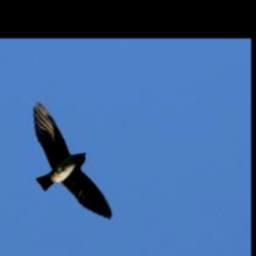Swallow: (30, 101, 109, 222)
